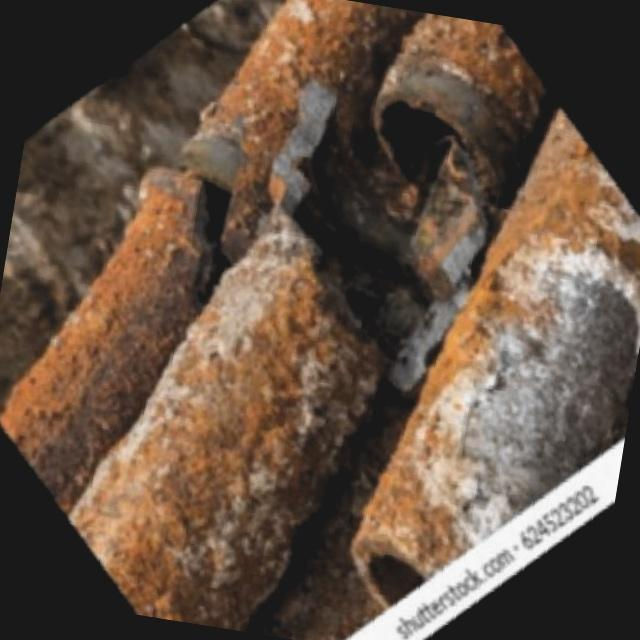Hole: (248, 72, 524, 360)
